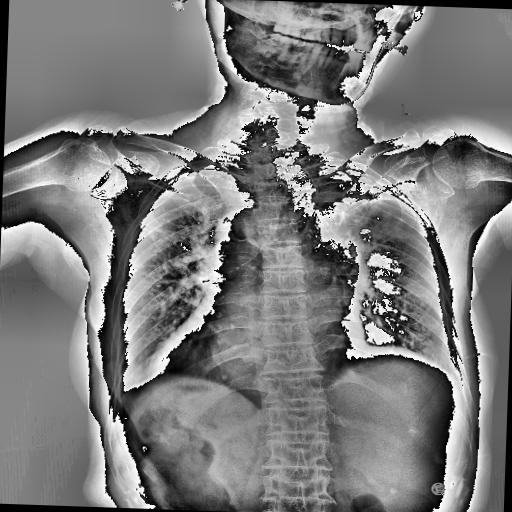0- Aortic enlargement: (213, 208, 279, 260), (211, 207, 272, 263), (210, 207, 266, 267)
1- Atelectasis: (312, 166, 424, 246), (302, 166, 382, 225)
13- Pulmonary fibrosis: (313, 188, 414, 254), (136, 220, 164, 247)
2- Calcification: (313, 188, 414, 254)
3- Cardiomegaly: (144, 306, 366, 388), (146, 312, 366, 388), (148, 304, 364, 381)
6- Infiltration: (313, 188, 414, 254)
9- Other lesion: (314, 234, 362, 292)
